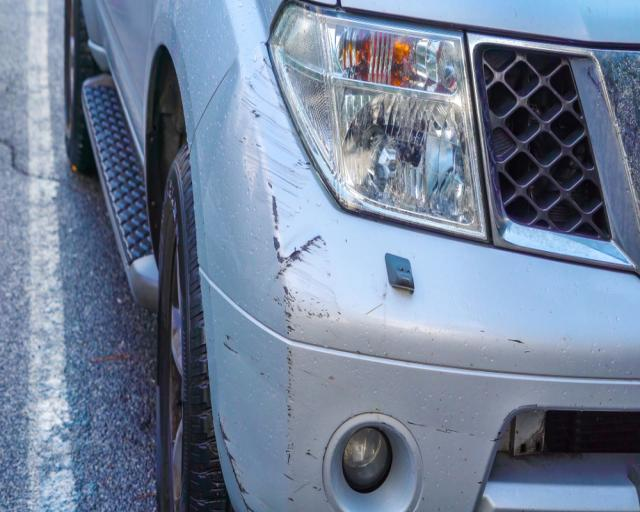scratch: (217, 55, 339, 512)
